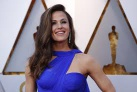female: (39, 6, 81, 58)
